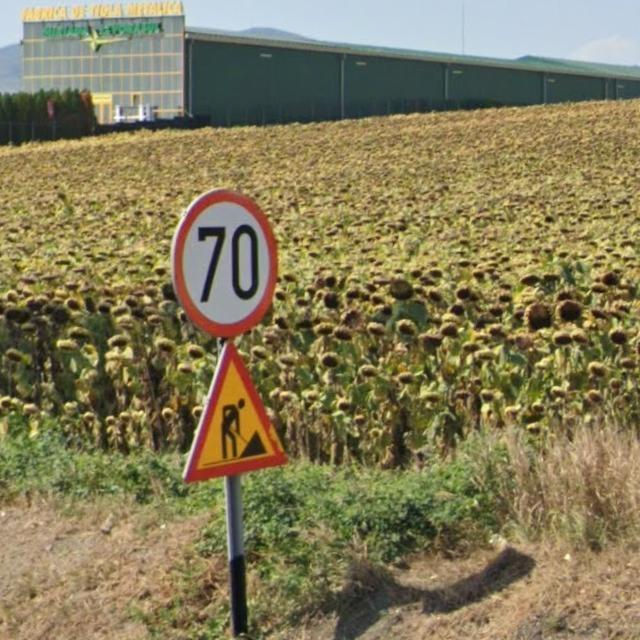forb_speed_over_70: (171, 191, 279, 339)
